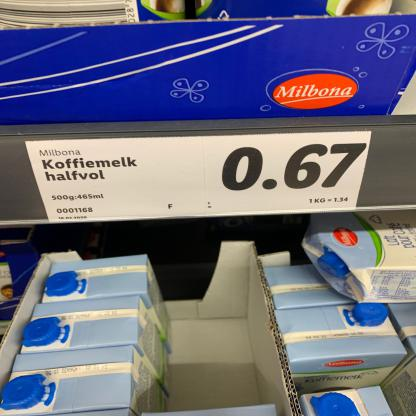prtg: (25, 132, 372, 223)
